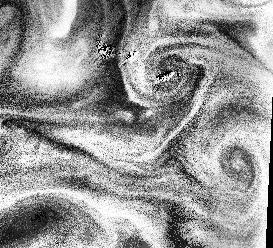CE: (182, 129, 267, 211), (121, 27, 202, 100)
